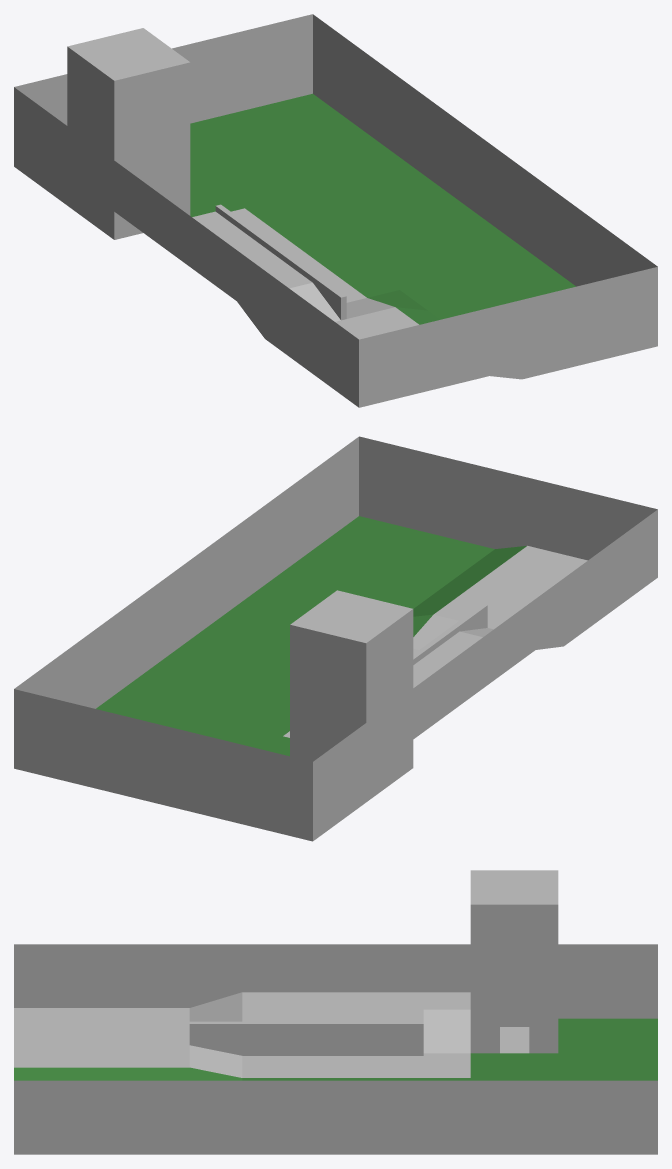
File: testmap.glb
The picture shows the model from 3 angles, top to bottom: view 1: azimuth 30°, elevation 25°; view 2: azimuth 150°, elevation 25°; view 3: azimuth 270°, elevation 25°; orthographic projection. The views are drawn at different scales.
Visible parts, largest first — view 1: Plane; view 2: Plane; view 3: Plane.
Boxes of the visible parts, x1,y1,x2,y2 form: Plane: (14, 14, 657, 407); Plane: (14, 436, 657, 841); Plane: (14, 870, 657, 1154).
Size of the model in its own units: 55 by 28 by 110.
